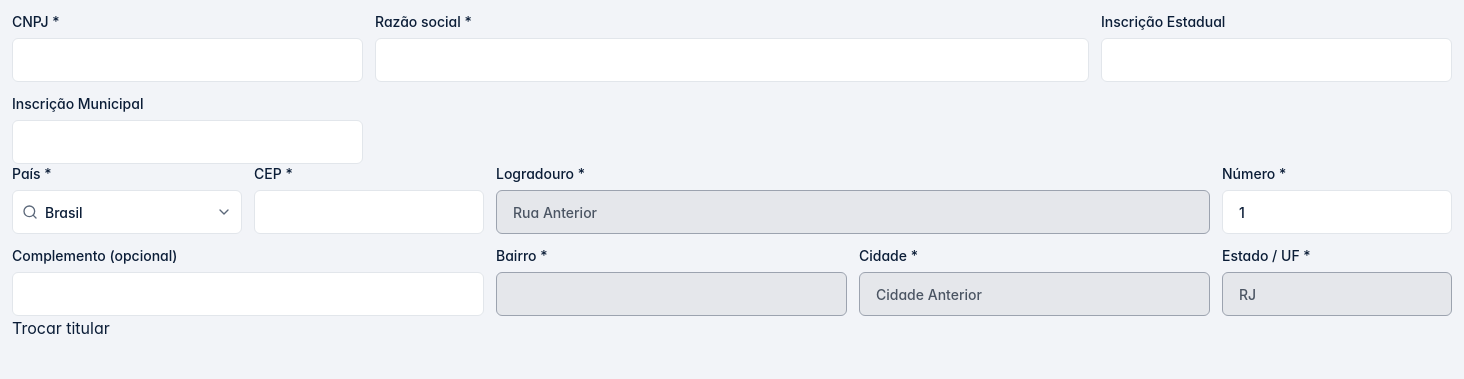
Test case: retorno parcial preenche razão social, limpa endereço antigo ausente e orienta completar o cadastro
Type "11222333000181" into the field labelled "CNPJ *".
click(188, 60); type("11222333000181")  # box top-left (12, 38), bottom-right (363, 82)
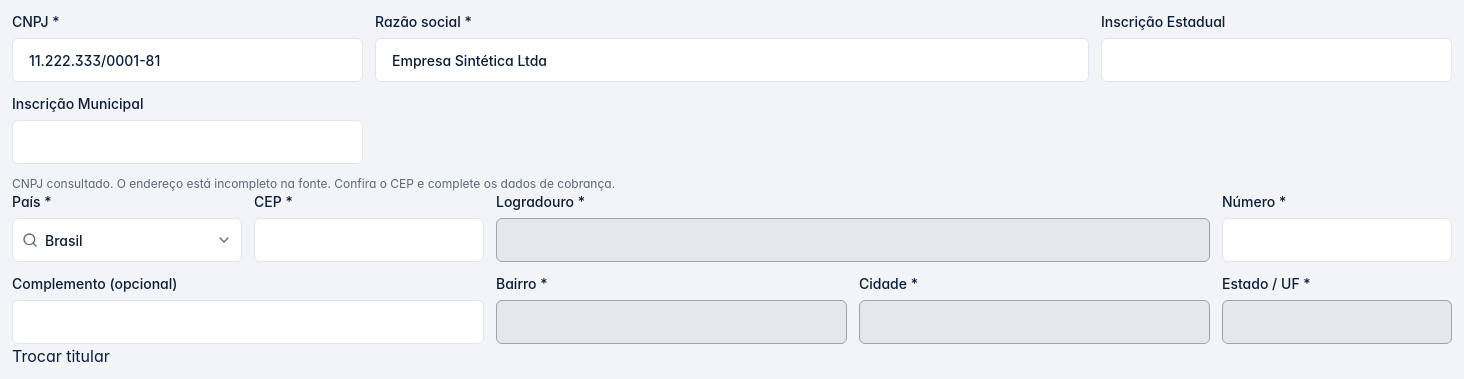
Expected: the field labelled "Razão social *" holds "Empresa Sintética Ltda", top-left (375, 38), bottom-right (1089, 82)
Expected: the message shows "CNPJ consultado. O endereço está incompleto na fonte. Confira o CEP e complete os dados de cobrança.", top-left (12, 176), bottom-right (615, 191)
Expected: the field labelled "Logradouro *" is empty, top-left (496, 218), bottom-right (1210, 262)
